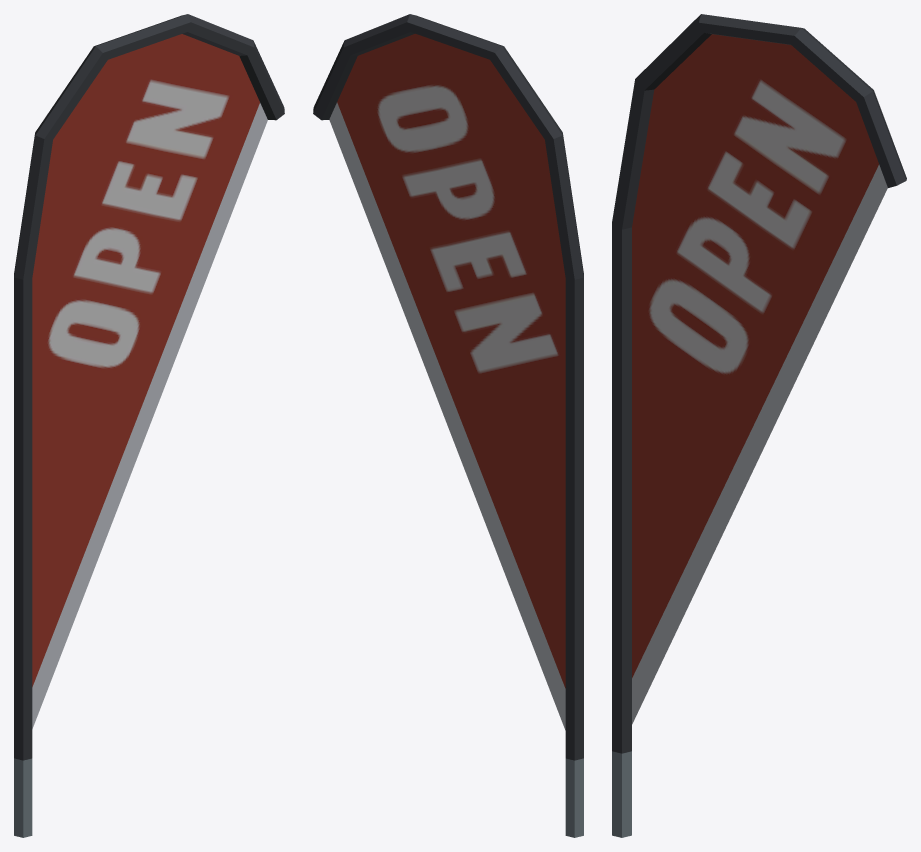
File: SM_Sign_Flag_02_Pivot_01.obj
3 renders of one model, left to right at view 1: azimuth 30°, elevation 25°; view 2: azimuth 150°, elevation 25°; view 3: azimuth 330°, elevation 25°, orthographic. The views are drawn at different scales.
Visible parts, largest first — view 1: SM_Sign_Flag_02_Pivot_01_0; view 2: SM_Sign_Flag_02_Pivot_01_0; view 3: SM_Sign_Flag_02_Pivot_01_0.
Part boxes in pixels (bbox=[...]): SM_Sign_Flag_02_Pivot_01_0: bbox=[14, 14, 284, 837]; SM_Sign_Flag_02_Pivot_01_0: bbox=[313, 14, 583, 837]; SM_Sign_Flag_02_Pivot_01_0: bbox=[612, 14, 906, 837].
Bounding box in the file's own units: 0.6549 × 1.8 × 0.0385.
Materials: 1 (1 with a texture image).
